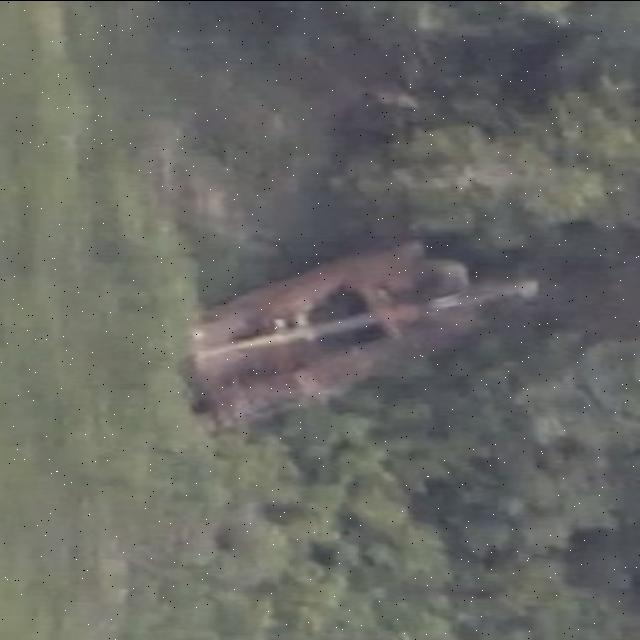ART: (165, 238, 551, 434)
